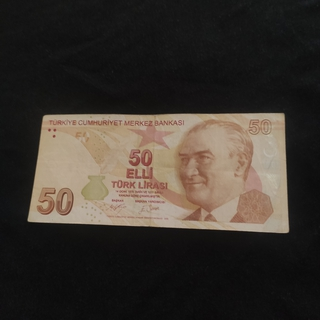50TLFront: (27, 111, 289, 233)
